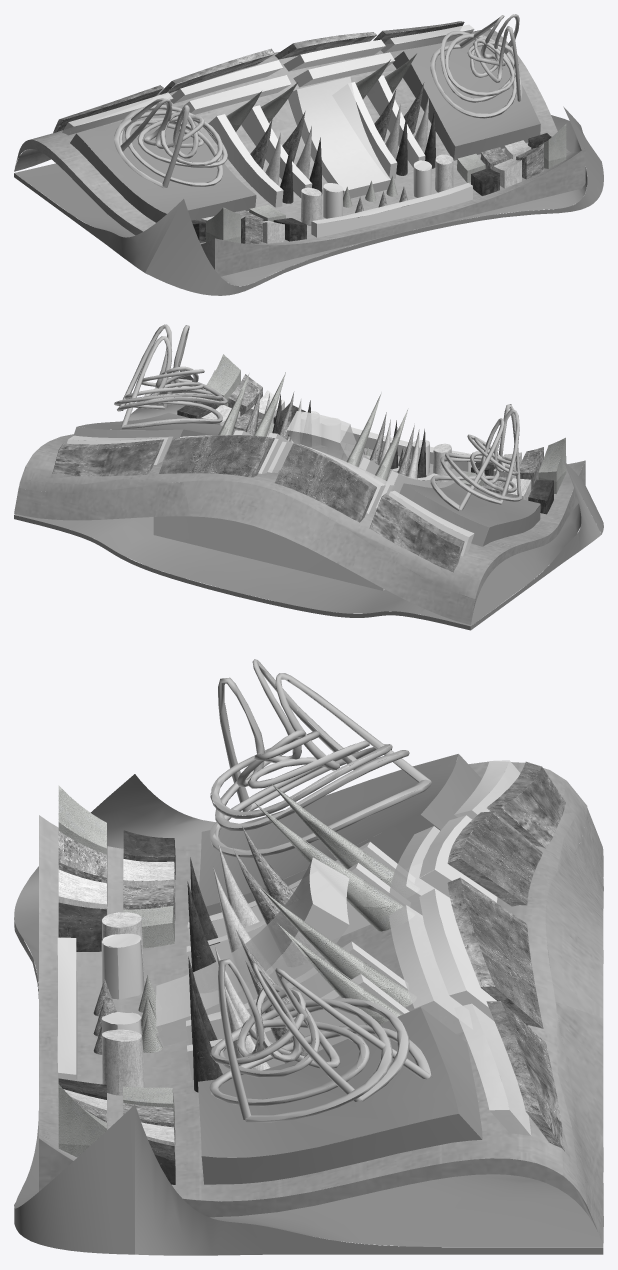
Rendered from dj2_GRY-v42.glb.
3 renders of one model, top to bottom at view 1: azimuth 30°, elevation 25°; view 2: azimuth 150°, elevation 25°; view 3: azimuth 270°, elevation 25°, orthographic. The views are drawn at different scales.
Parts seen in each view (by area): view 1: DJSET_2-REDUCED, base2, slider, donen dalga, ekran2, tus2, tsu4; view 2: DJSET_2-REDUCED, base2, ekran2, donen dalga, tus2, slider, tsu4; view 3: DJSET_2-REDUCED, base2, donen dalga, ekran2, slider, tsu4, tus2.
Boxes of the visible parts, <box> form: DJSET_2-REDUCED: <box>14,24,585,276</box>; base2: <box>14,33,603,295</box>; slider: <box>170,39,472,237</box>; donen dalga: <box>114,14,522,188</box>; ekran2: <box>53,21,464,132</box>; tus2: <box>234,82,543,244</box>; tsu4: <box>191,109,551,242</box>; DJSET_2-REDUCED: <box>14,354,585,624</box>; base2: <box>14,370,603,630</box>; ekran2: <box>52,435,464,572</box>; donen dalga: <box>114,324,522,510</box>; tus2: <box>228,374,543,493</box>; slider: <box>180,417,471,513</box>; tsu4: <box>177,394,553,514</box>; DJSET_2-REDUCED: <box>39,760,603,1243</box>; base2: <box>14,754,603,1255</box>; donen dalga: <box>209,659,431,1122</box>; ekran2: <box>447,761,565,1150</box>; slider: <box>57,815,497,1097</box>; tsu4: <box>58,830,222,1184</box>; tus2: <box>58,826,318,1144</box>.
Size of the model in its own units: 1.2 by 0.4006 by 0.7509.
11 materials, 6 textured.
